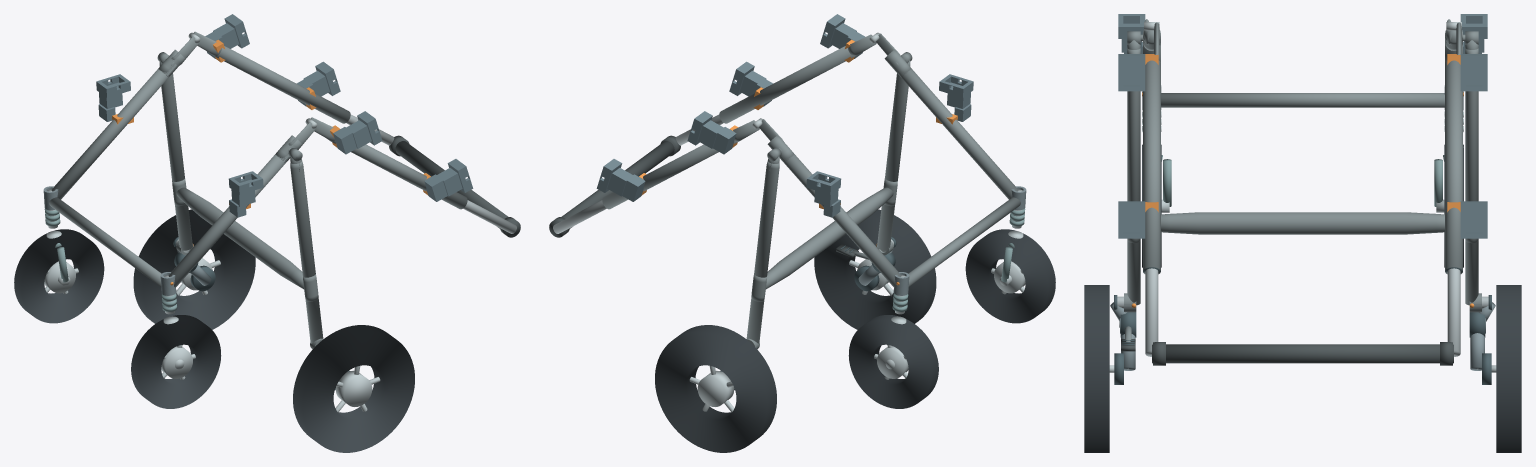
Rendered from w650_state2_wheel_M.glb.
3 renders of one model, left to right at view 1: azimuth 30°, elevation 25°; view 2: azimuth 150°, elevation 25°; view 3: azimuth 270°, elevation 25°, orthographic. The views are drawn at different scales.
Visible parts, largest first — view 1: RL_tire.010, RR_tire.010, FL_tire.010, FR_tire.010, V46_rearbar.010, main_lower_1.010, V46_rear_leg_-1.010, main_upper_1.010, V46_rear_leg_1.010, main_lower_-1.010, front_fixed_round_tube.010, main_upper_-1.010 (+11 smaller); view 2: RR_tire.010, RL_tire.010, FR_tire.010, FL_tire.010, V46_rearbar.010, main_lower_-1.010, V46_rear_leg_1.010, main_upper_-1.010, V46_rear_leg_-1.010, main_lower_1.010, front_fixed_round_tube.010, main_upper_1.010 (+11 smaller); view 3: V46_rearbar.010, round_handle.009, RL_tire.010, RR_tire.010, front_fixed_round_tube.010, main_upper_-1.010, main_upper_1.010, V46_rear_leg_1.010, V46_rear_leg_-1.010, handle_slider_1.009, handle_slider_-1.009, Universal_Cabin_Receiver_H_1 (+6 smaller).
Part boxes in pixels (left/top/right/bottom): RL_tire.010: left=293, top=325, right=414, bottom=452; RR_tire.010: left=133, top=209, right=255, bottom=329; FL_tire.010: left=131, top=315, right=221, bottom=408; FR_tire.010: left=14, top=229, right=104, bottom=323; V46_rearbar.010: left=176, top=187, right=303, bottom=289; main_lower_1.010: left=51, top=64, right=176, bottom=199; V46_rear_leg_-1.010: left=290, top=160, right=323, bottom=343; main_upper_1.010: left=215, top=46, right=350, bottom=123; V46_rear_leg_1.010: left=161, top=73, right=192, bottom=250; main_lower_-1.010: left=168, top=154, right=288, bottom=287; front_fixed_round_tube.010: left=49, top=197, right=161, bottom=286; main_upper_-1.010: left=332, top=140, right=467, bottom=209; RR_tire.010: left=655, top=325, right=776, bottom=452; RL_tire.010: left=814, top=209, right=936, bottom=329; FR_tire.010: left=848, top=315, right=938, bottom=408; FL_tire.010: left=965, top=229, right=1055, bottom=323; V46_rearbar.010: left=766, top=187, right=893, bottom=289; main_lower_-1.010: left=893, top=64, right=1018, bottom=199; V46_rear_leg_1.010: left=746, top=160, right=779, bottom=343; main_upper_-1.010: left=719, top=46, right=854, bottom=123; V46_rear_leg_-1.010: left=877, top=73, right=908, bottom=250; main_lower_1.010: left=781, top=154, right=901, bottom=287; front_fixed_round_tube.010: left=908, top=197, right=1020, bottom=286; main_upper_1.010: left=602, top=140, right=737, bottom=209; V46_rearbar.010: left=1161, top=212, right=1444, bottom=234; round_handle.009: left=1152, top=344, right=1453, bottom=363; RL_tire.010: left=1084, top=285, right=1109, bottom=452; RR_tire.010: left=1496, top=285, right=1521, bottom=452; front_fixed_round_tube.010: left=1161, top=93, right=1444, bottom=107; main_upper_-1.010: left=1143, top=60, right=1160, bottom=274; main_upper_1.010: left=1445, top=60, right=1462, bottom=274; V46_rear_leg_1.010: left=1465, top=48, right=1478, bottom=305; V46_rear_leg_-1.010: left=1127, top=48, right=1140, bottom=305; handle_slider_1.009: left=1447, top=268, right=1460, bottom=356; handle_slider_-1.009: left=1145, top=268, right=1158, bottom=356; Universal_Cabin_Receiver_H_1: left=1460, top=201, right=1487, bottom=238.
Bounding box in the file's own units: 1.03 × 0.81 × 0.781.
